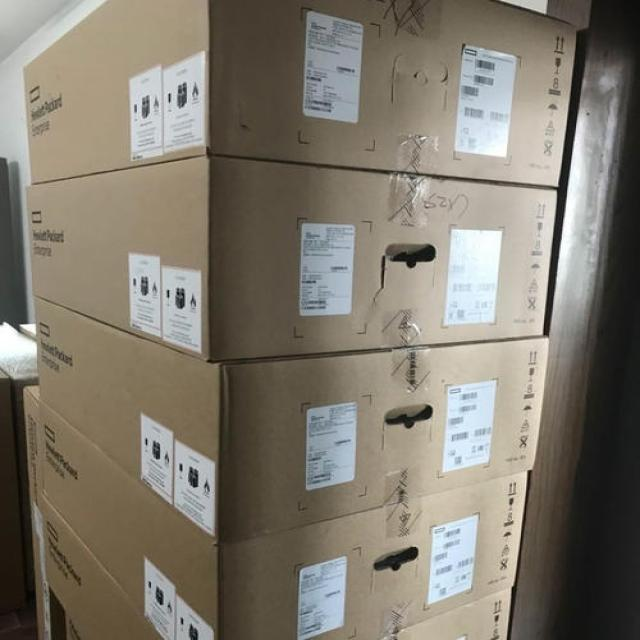box: (33, 295, 549, 544), (40, 399, 530, 640), (26, 155, 558, 360), (22, 0, 577, 186), (40, 494, 165, 640), (22, 385, 49, 640), (385, 588, 515, 640)
